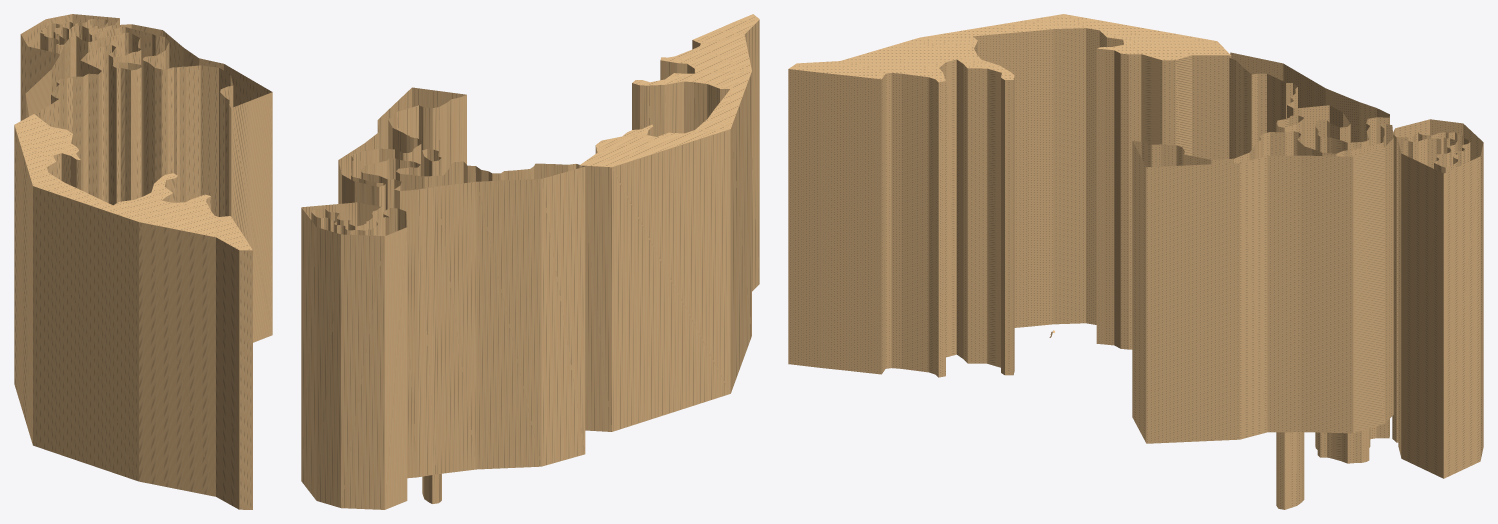
File: WallLeft.fbx
3 views of the same model, side by side, from view 1: azimuth 30°, elevation 25°; view 2: azimuth 150°, elevation 25°; view 3: azimuth 270°, elevation 25° (orthographic). The views are drawn at different scales.
Parts seen in each view (by area): view 1: TutorialWallsLeft; view 2: TutorialWallsLeft; view 3: TutorialWallsLeft.
Part boxes in pixels (<box>): TutorialWallsLeft: <box>14,14,272,509</box>; TutorialWallsLeft: <box>301,14,759,509</box>; TutorialWallsLeft: <box>788,14,1483,509</box>.
Size of the model in its own units: 1177 by 1369 by 2257.
